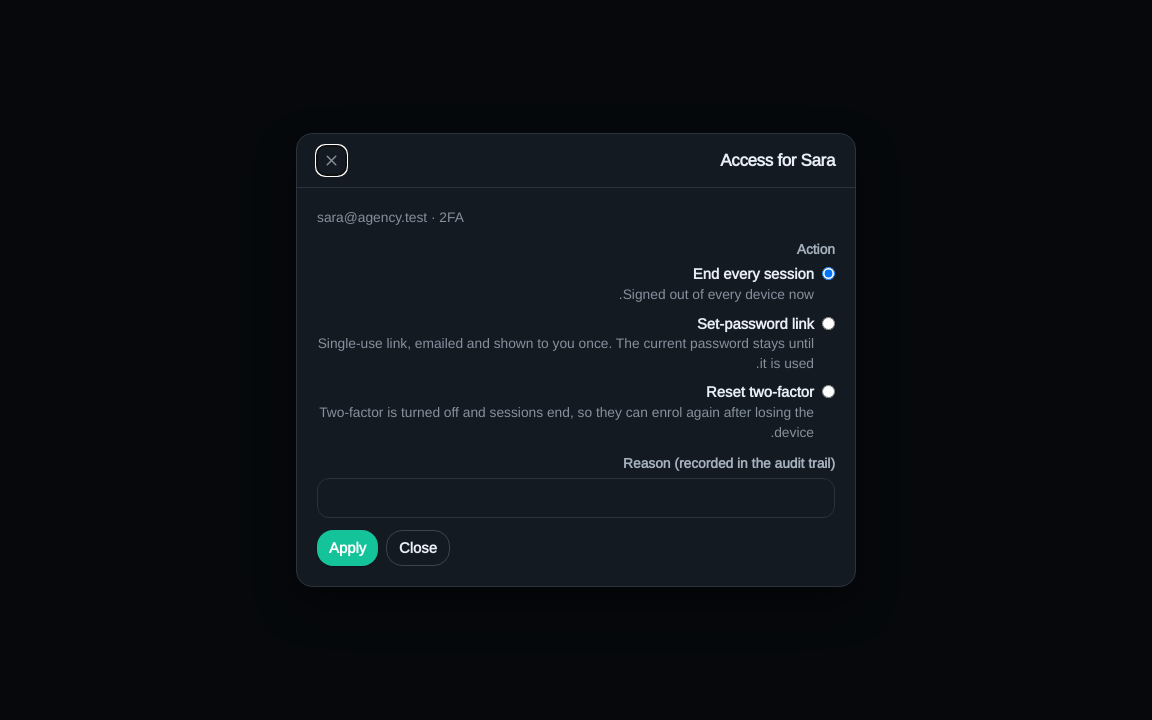
Test: UserAccessDialog › asks for the operator password for a set-password link and shows the link once
The width and height of the screenshot is (1152, 720).
Click the radio button with test id "access-action-password_link" at (828, 323), box x1=822 y1=317 x2=835 y2=330
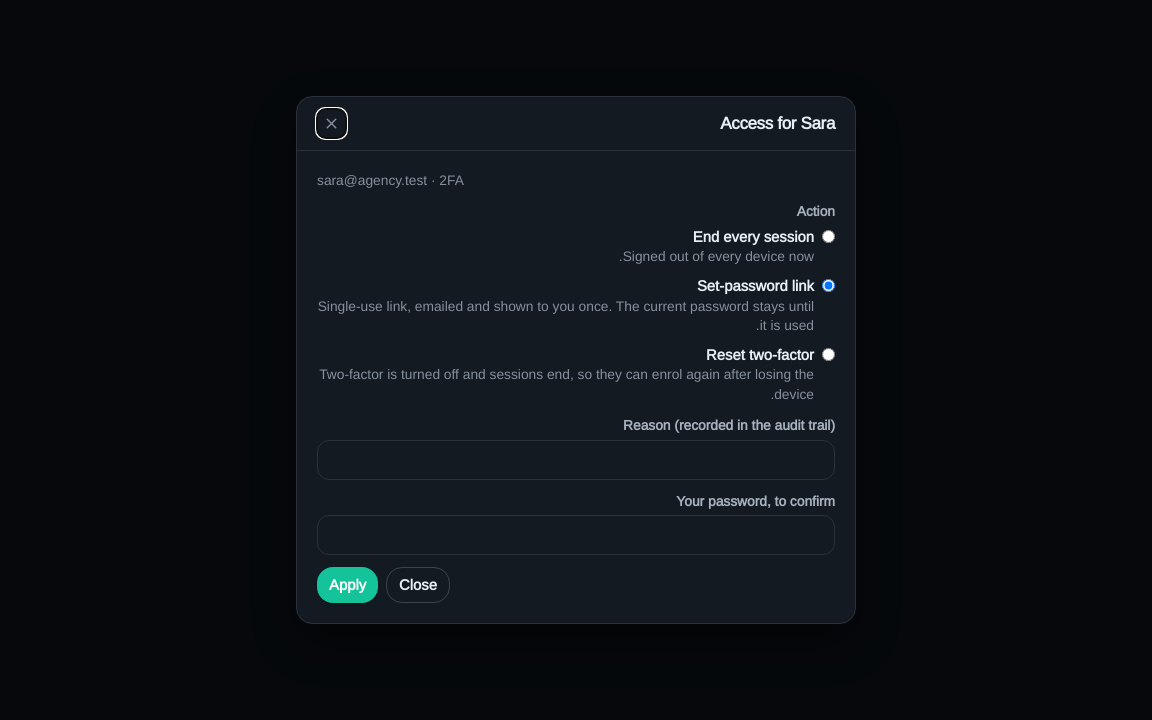
Type "Lost access to email" into the field with test id "access-reason" at (576, 460), box x1=317 y1=440 x2=835 y2=480
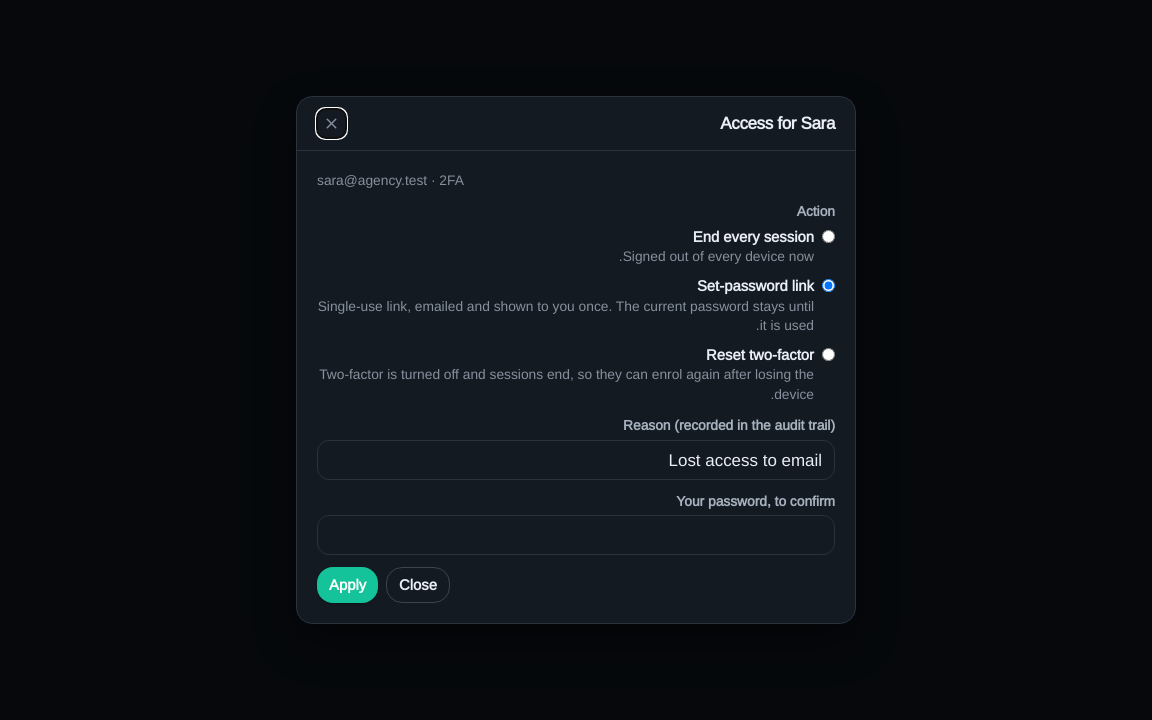
Type "operator-pass" into the password field with test id "access-password" at (576, 535), box x1=317 y1=515 x2=835 y2=555
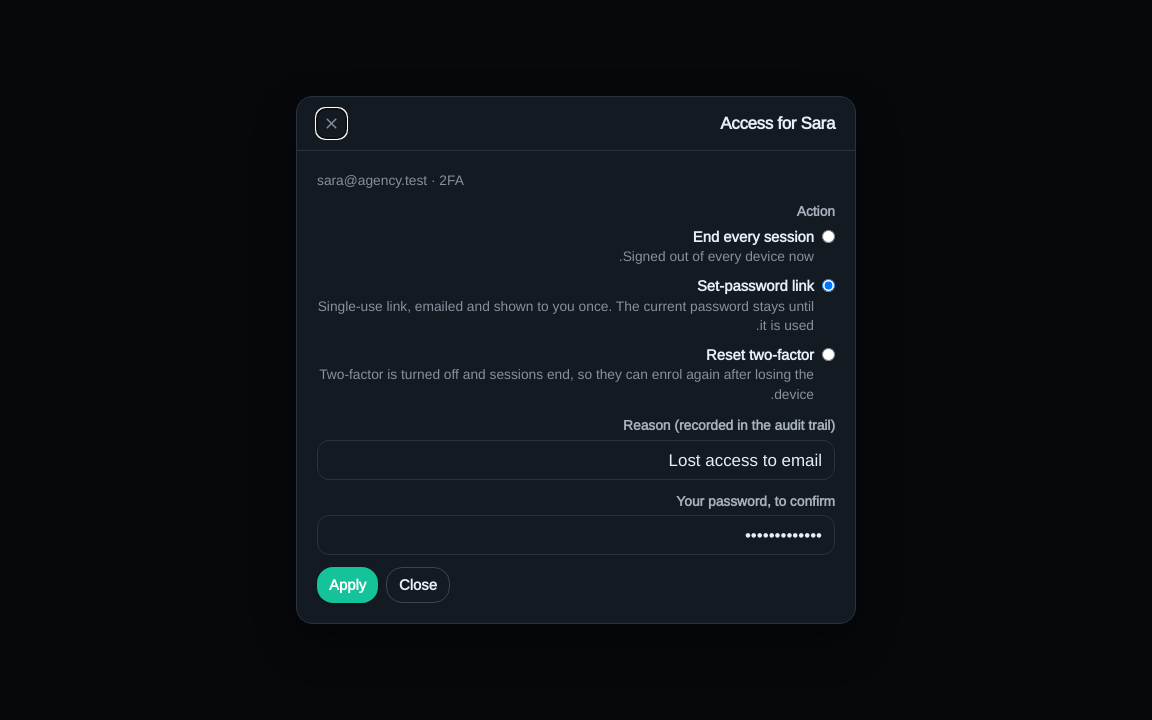
Click the button with test id "access-submit" at (348, 585), box x1=317 y1=567 x2=378 y2=603
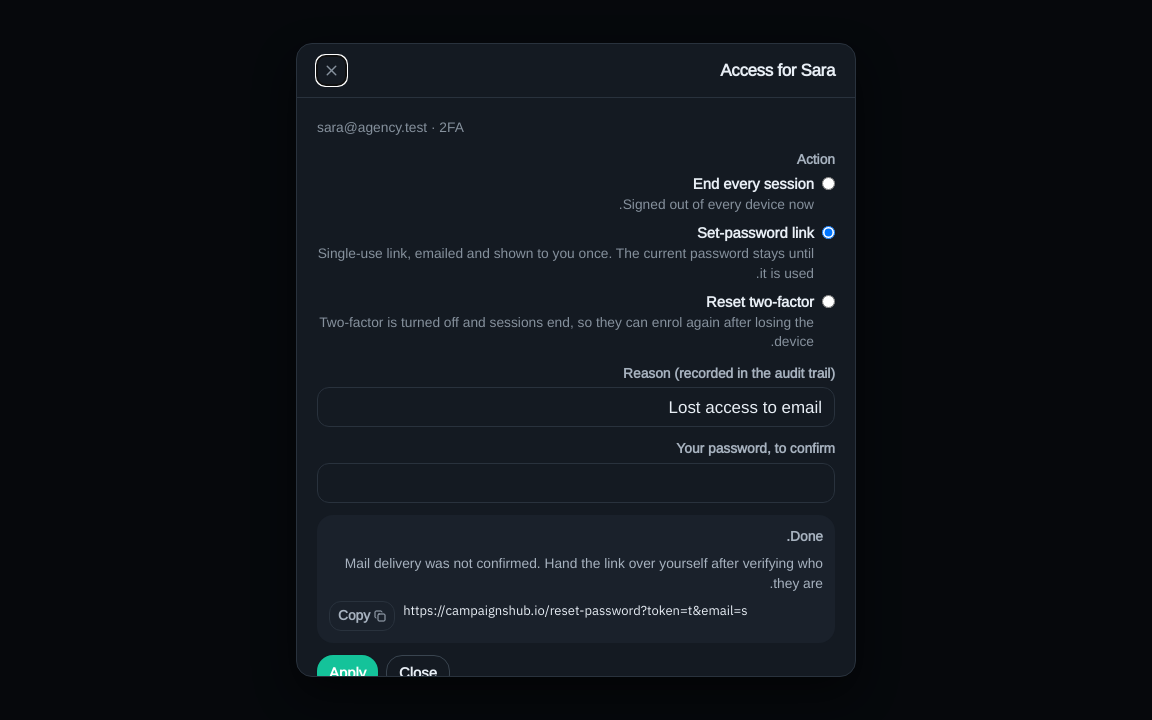
Check: the text with test id "access-link" shows "/reset-password?token=t", box x1=403 y1=601 x2=748 y2=620
Check: the element with test id "access-result" shows "verifying who they are", box x1=345 y1=555 x2=823 y2=591
